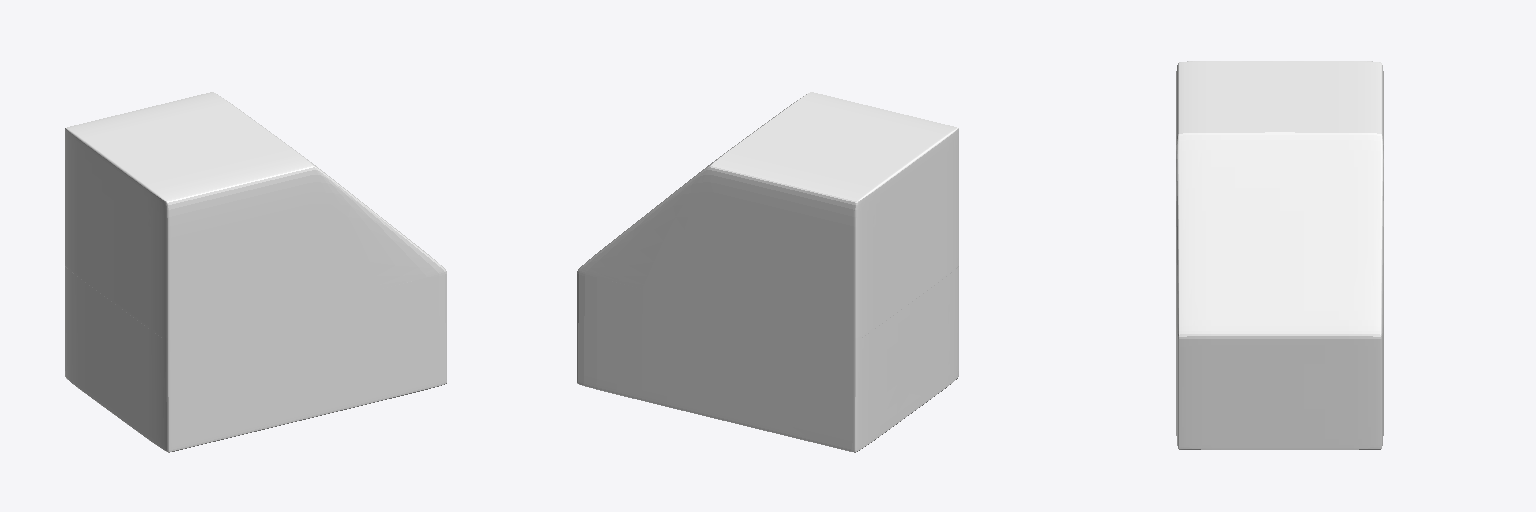
The model's file is Ramp2.obj.
3 views of the same model, side by side, from view 1: azimuth 30°, elevation 25°; view 2: azimuth 150°, elevation 25°; view 3: azimuth 270°, elevation 25° (orthographic).
Visible parts, largest first — view 1: ramp; view 2: ramp; view 3: ramp.
Boxes of the visible parts, x1,y1,x2,y2 form: ramp: [65, 92, 446, 452]; ramp: [577, 92, 958, 452]; ramp: [1176, 61, 1383, 449].
Size of the model in its own units: 1.4 by 1.19 by 0.886.